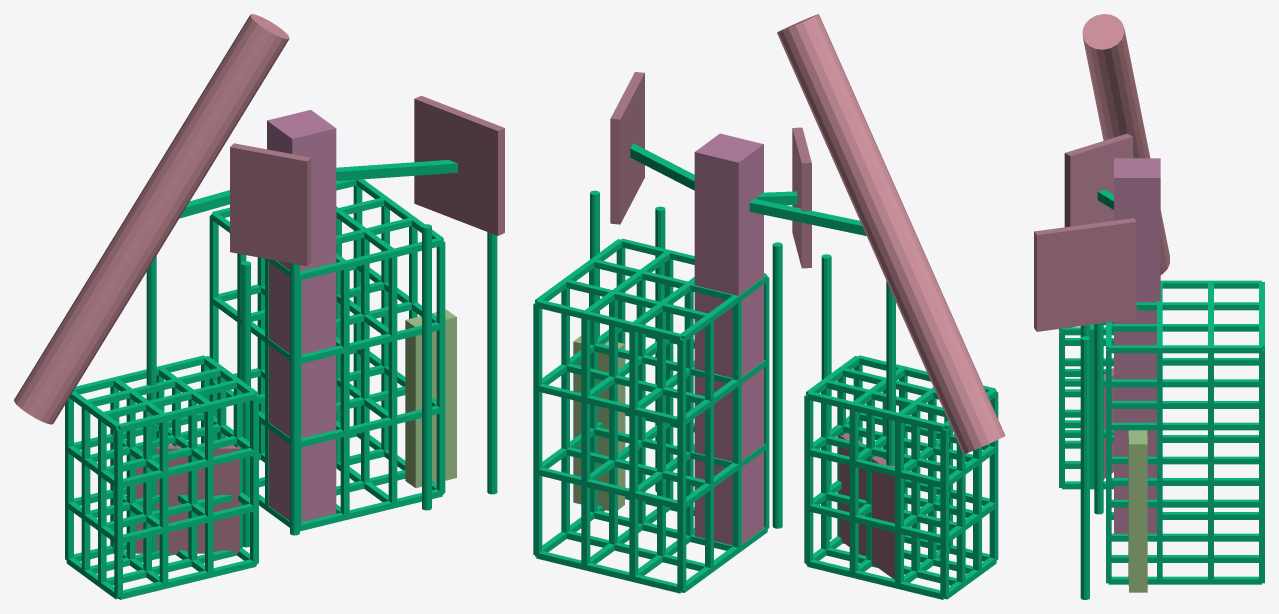
The model's file is folie_tag_076.glb.
3 renders of one model, left to right at view 1: azimuth 30°, elevation 25°; view 2: azimuth 150°, elevation 25°; view 3: azimuth 270°, elevation 25°, orthographic. The views are drawn at different scales.
Visible parts, largest first — view 1: folie_tag_076_01_cage, folie_tag_076_00_cage, folie_tag_076_02_tube, folie_tag_076_core, folie_tag_076_line, folie_tag_076_03_panel, folie_tag_076_06_panel, folie_tag_076_04_fin, folie_tag_076_05_panel; view 2: folie_tag_076_00_cage, folie_tag_076_01_cage, folie_tag_076_02_tube, folie_tag_076_core, folie_tag_076_line, folie_tag_076_03_panel, folie_tag_076_05_panel, folie_tag_076_04_fin, folie_tag_076_06_panel; view 3: folie_tag_076_00_cage, folie_tag_076_03_panel, folie_tag_076_core, folie_tag_076_02_tube, folie_tag_076_line, folie_tag_076_06_panel, folie_tag_076_01_cage, folie_tag_076_04_fin, folie_tag_076_05_panel.
Boxes of the visible parts, left/top/right/bottom form: folie_tag_076_01_cage: left=65, top=355, right=258, bottom=599; folie_tag_076_00_cage: left=209, top=179, right=445, bottom=531; folie_tag_076_02_tube: left=14, top=14, right=289, bottom=424; folie_tag_076_core: left=267, top=110, right=336, bottom=521; folie_tag_076_line: left=146, top=160, right=497, bottom=552; folie_tag_076_03_panel: left=414, top=95, right=504, bottom=235; folie_tag_076_06_panel: left=230, top=143, right=311, bottom=266; folie_tag_076_04_fin: left=405, top=309, right=456, bottom=487; folie_tag_076_05_panel: left=135, top=444, right=239, bottom=553; folie_tag_076_00_cage: left=533, top=238, right=769, bottom=593; folie_tag_076_01_cage: left=804, top=355, right=998, bottom=599; folie_tag_076_02_tube: left=777, top=14, right=1005, bottom=454; folie_tag_076_core: left=694, top=133, right=763, bottom=545; folie_tag_076_line: left=590, top=143, right=895, bottom=539; folie_tag_076_03_panel: left=610, top=72, right=644, bottom=224; folie_tag_076_05_panel: left=839, top=433, right=894, bottom=578; folie_tag_076_04_fin: left=573, top=335, right=624, bottom=510; folie_tag_076_06_panel: left=792, top=127, right=811, bottom=268; folie_tag_076_00_cage: left=1106, top=280, right=1264, bottom=584; folie_tag_076_03_panel: left=1034, top=218, right=1136, bottom=331; folie_tag_076_core: left=1114, top=158, right=1160, bottom=533; folie_tag_076_02_tube: left=1082, top=14, right=1169, bottom=274; folie_tag_076_line: left=1080, top=156, right=1133, bottom=599; folie_tag_076_06_panel: left=1064, top=133, right=1132, bottom=227; folie_tag_076_01_cage: left=1059, top=321, right=1113, bottom=489; folie_tag_076_04_fin: left=1128, top=430, right=1147, bottom=592; folie_tag_076_05_panel: left=1103, top=367, right=1113, bottom=479.
Size of the model in its own units: 11.14 by 12.54 by 5.43.
